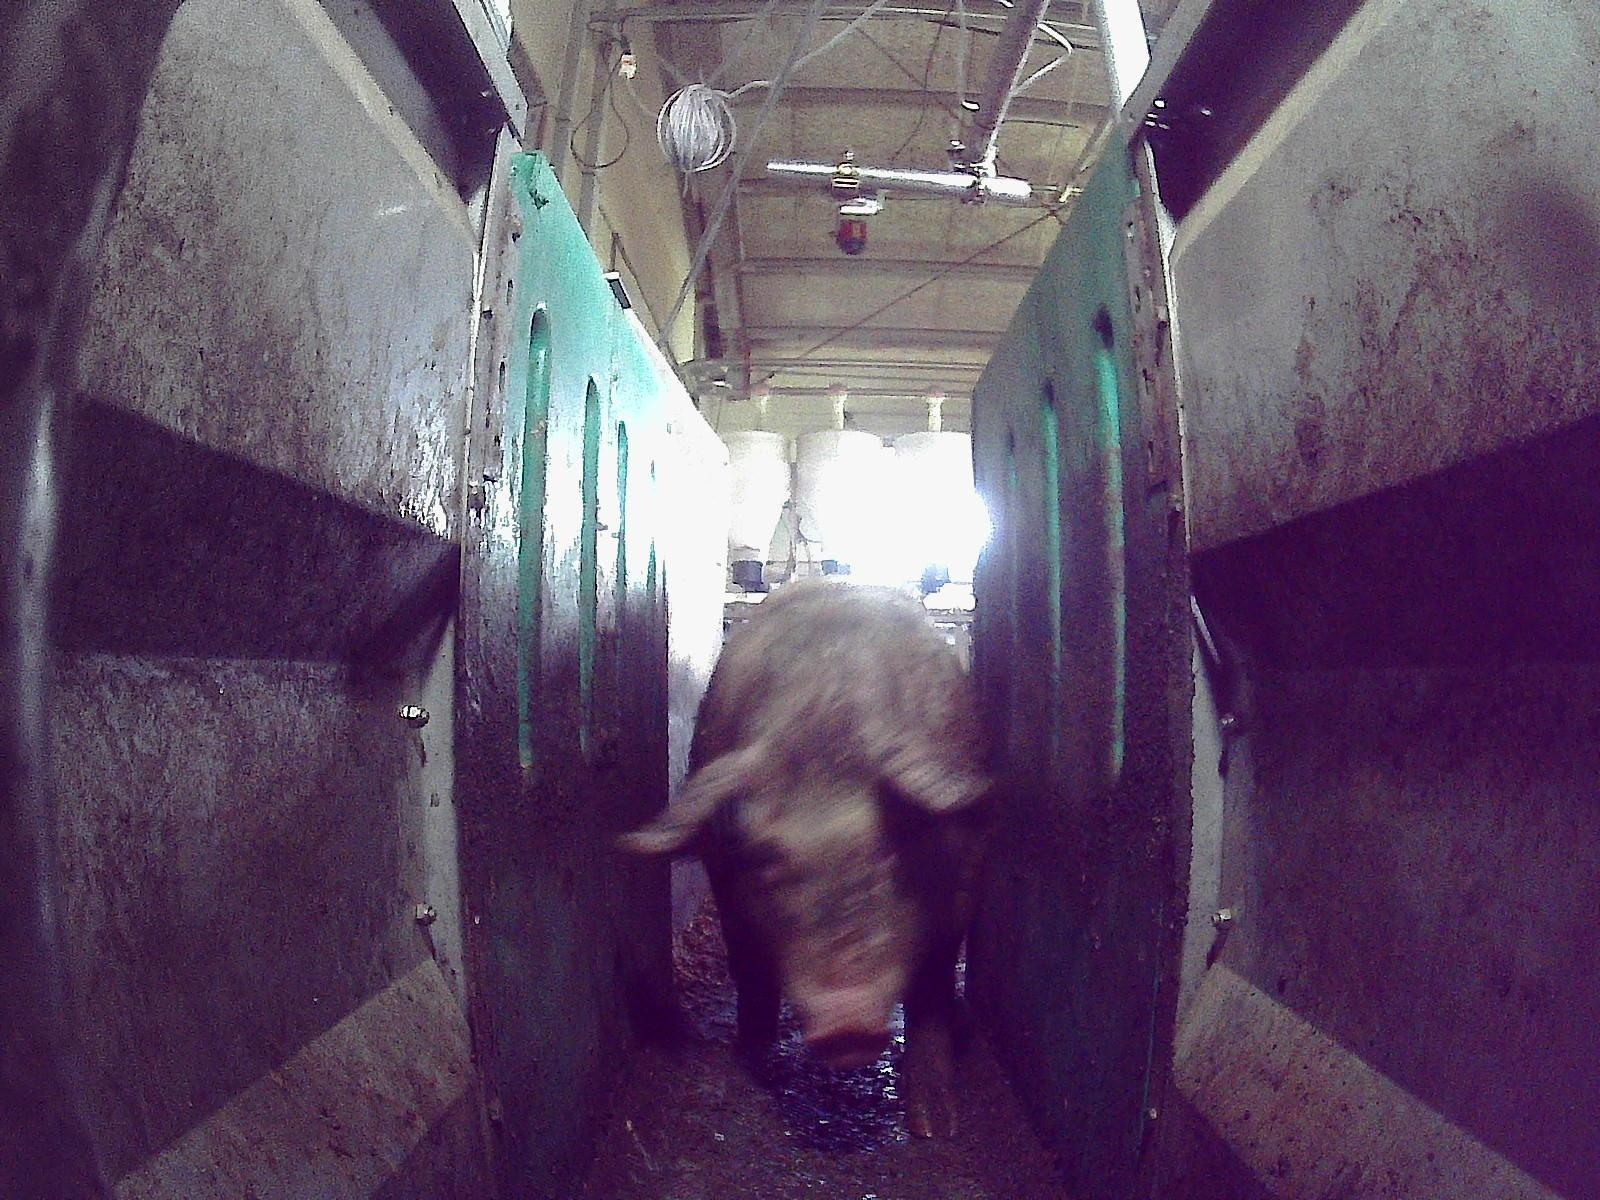Face: (739, 707, 943, 1071)
